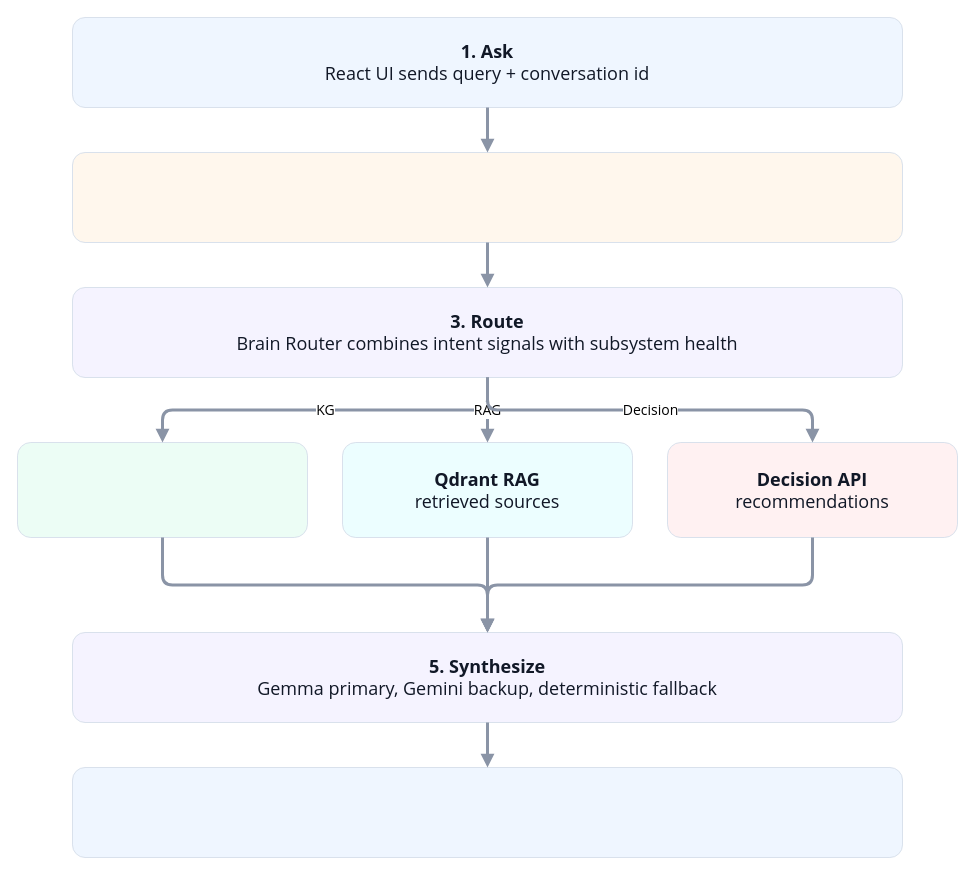
Image size: 975x875. Some labels were removed from this diagram. The shapes that lost their labels are listed below. From the top down, each one's box as (x1, y1, x2, y2) in pixels, then its label:
(72, 152, 902, 242): 2. Normalize + Remember Clean academic wording and load conversation memory
(16, 442, 308, 538): Neo4j graph facts
(72, 766, 902, 858): 6. Respond + Save Answer, graph data, used facts, missing information
